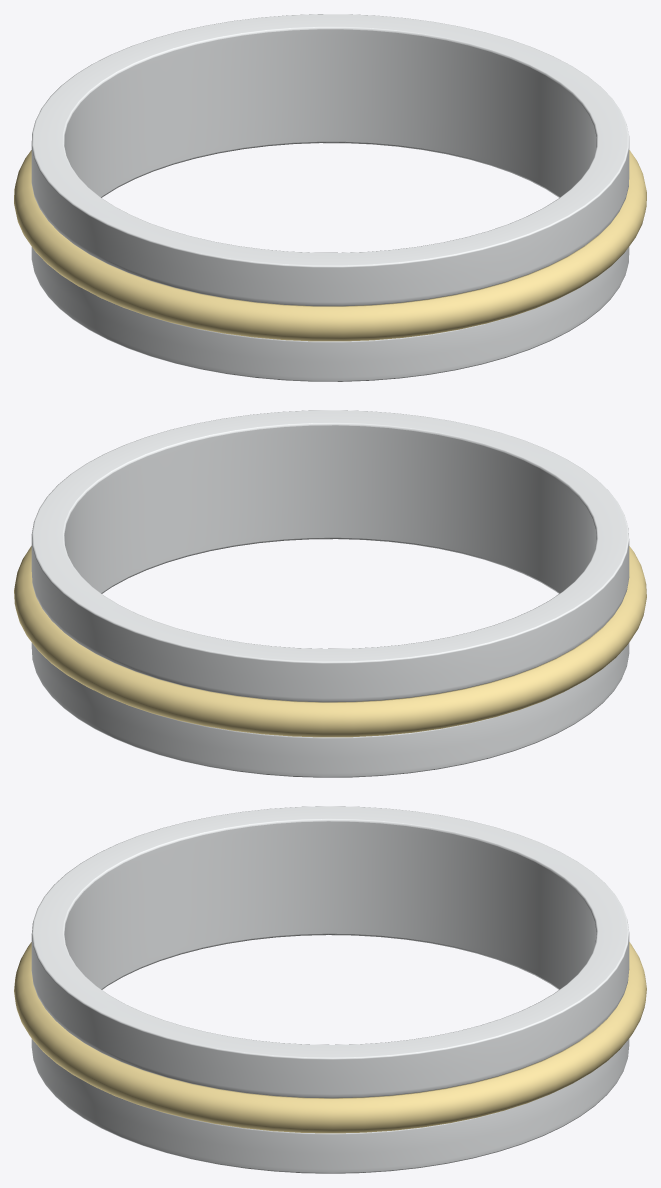
3 renders of one model, top to bottom at view 1: azimuth 30°, elevation 25°; view 2: azimuth 150°, elevation 25°; view 3: azimuth 270°, elevation 25°, orthographic.
Parts seen in each view (by area): view 1: Base_Metal, Engraving_Metal, Finishing_Metal; view 2: Base_Metal, Engraving_Metal, Finishing_Metal; view 3: Base_Metal, Engraving_Metal, Finishing_Metal.
Part boxes in pixels (x1,y1,x2,y2): Base_Metal: (31,14,629,381); Engraving_Metal: (64,29,596,197); Finishing_Metal: (14,150,646,341); Base_Metal: (31,410,629,777); Engraving_Metal: (64,425,596,592); Finishing_Metal: (14,546,646,737); Base_Metal: (31,806,629,1173); Engraving_Metal: (64,821,596,988); Finishing_Metal: (14,942,646,1133).
Size of the model in its own units: 2.12 by 0.43 by 2.12.
